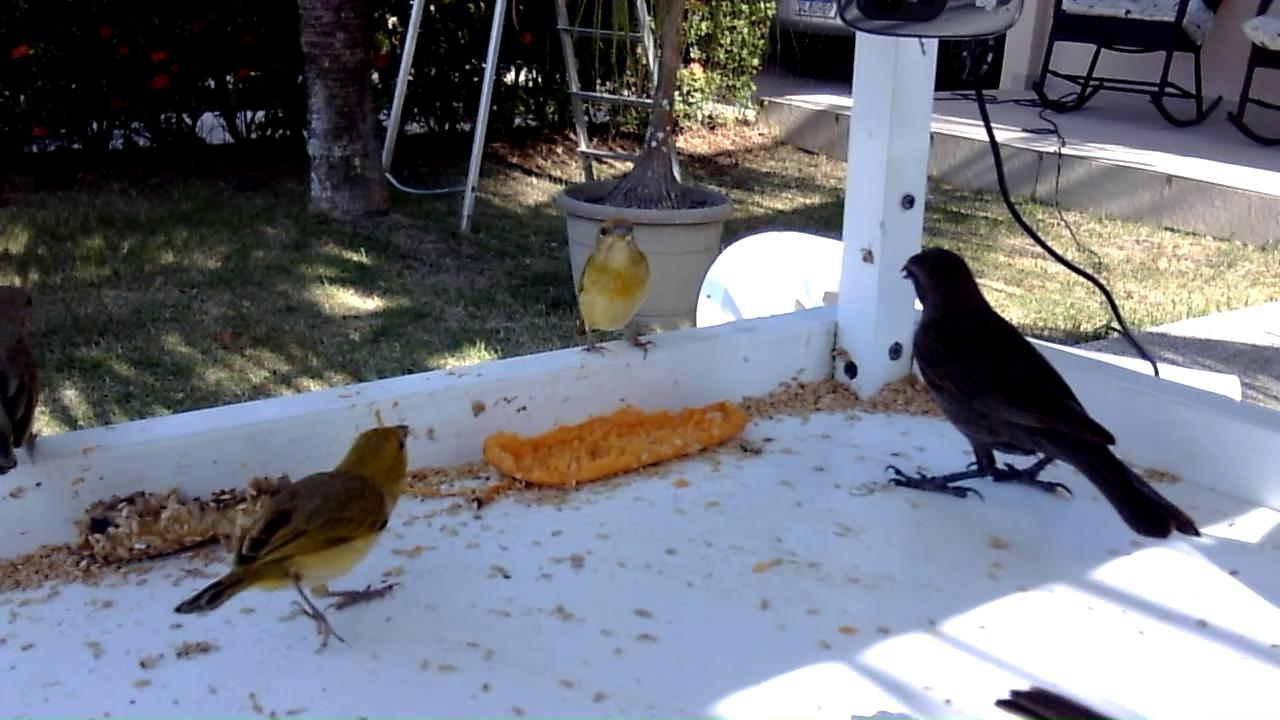canario_do_amazonas: (169, 420, 418, 659), (571, 213, 660, 366), (1, 281, 48, 483)
chupim: (880, 245, 1203, 544)
